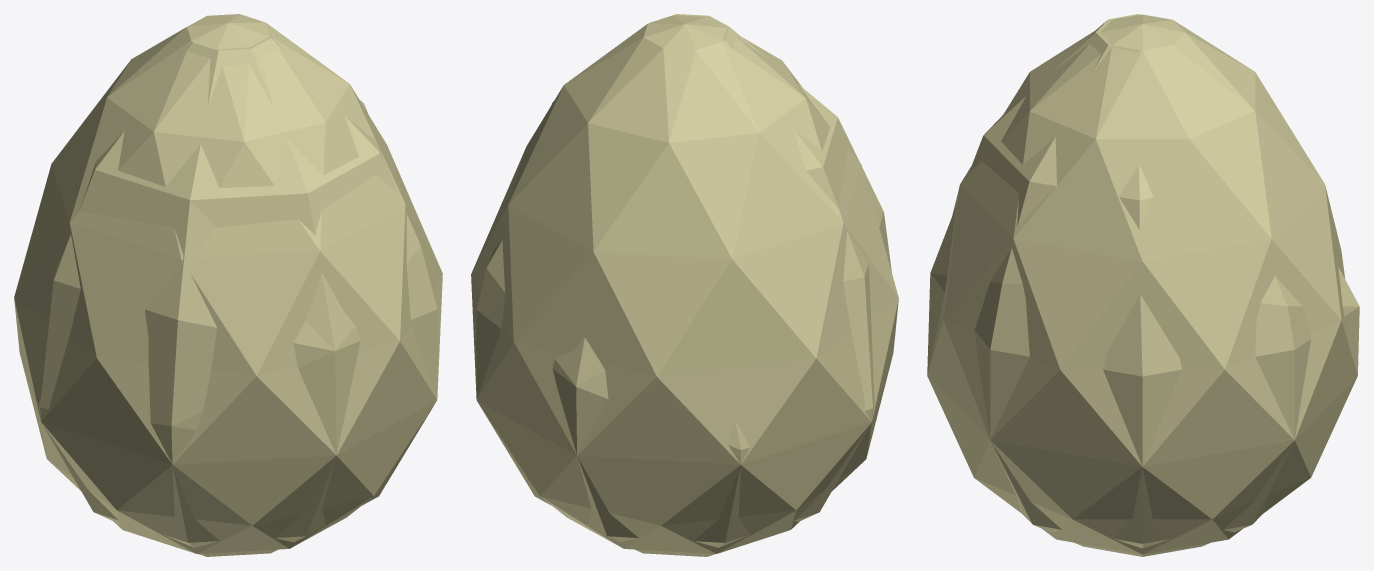
Rendered from Egg__Unity_Colliders 1.fbx.
3 renders of one model, left to right at view 1: azimuth 30°, elevation 25°; view 2: azimuth 150°, elevation 25°; view 3: azimuth 270°, elevation 25°, orthographic.
Visible parts, largest first — view 1: Sphere, Sphere_007, Sphere_002, Sphere_008, Sphere_005; view 2: Sphere, Sphere_004, Sphere_001, Sphere_003, Sphere_007, Sphere_006; view 3: Sphere, Sphere_005, Sphere_003, Sphere_008, Sphere_006.
Part boxes in pixels (x1=…): Sphere: x1=14, y1=14, x2=442, y2=553; Sphere_007: x1=40, y1=42, x2=334, y2=425; Sphere_002: x1=40, y1=351, x2=336, y2=556; Sphere_008: x1=249, y1=24, x2=420, y2=350; Sphere_005: x1=306, y1=246, x2=437, y2=535; Sphere: x1=471, y1=15, x2=898, y2=553; Sphere_004: x1=576, y1=40, x2=872, y2=449; Sphere_001: x1=576, y1=387, x2=872, y2=556; Sphere_003: x1=476, y1=268, x2=606, y2=535; Sphere_007: x1=707, y1=16, x2=891, y2=407; Sphere_006: x1=486, y1=22, x2=650, y2=386; Sphere: x1=927, y1=14, x2=1357, y2=554; Sphere_005: x1=927, y1=273, x2=1142, y2=556; Sphere_003: x1=1140, y1=294, x2=1359, y2=556; Sphere_008: x1=930, y1=32, x2=1139, y2=283; Sphere_006: x1=1139, y1=50, x2=1359, y2=306.
Bounding box in the file's own units: 1.97 × 2.58 × 1.97.
